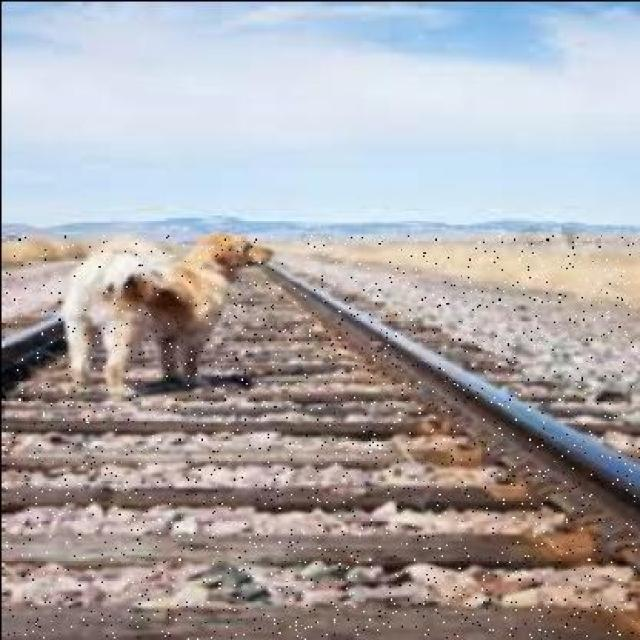danger: (22, 236, 284, 392)
rail: (4, 233, 640, 638)
